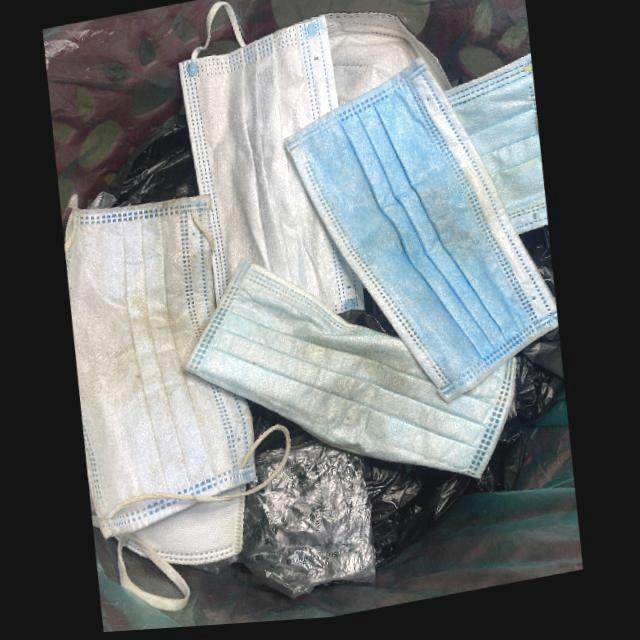plastic_bag: (239, 432, 379, 602)
